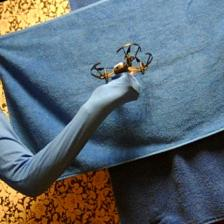drone: (89, 40, 154, 82)
